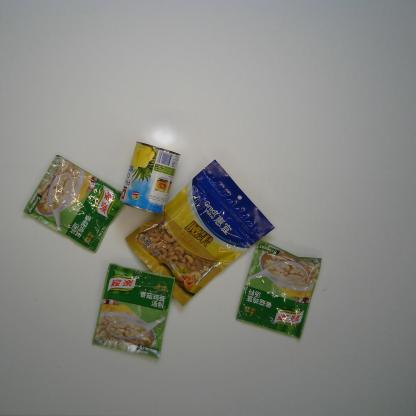Canned Food: (118, 140, 182, 215)
Dried Fruit: (124, 158, 277, 308)
Seasoner: (22, 154, 126, 254), (235, 239, 322, 341), (90, 262, 177, 360)
